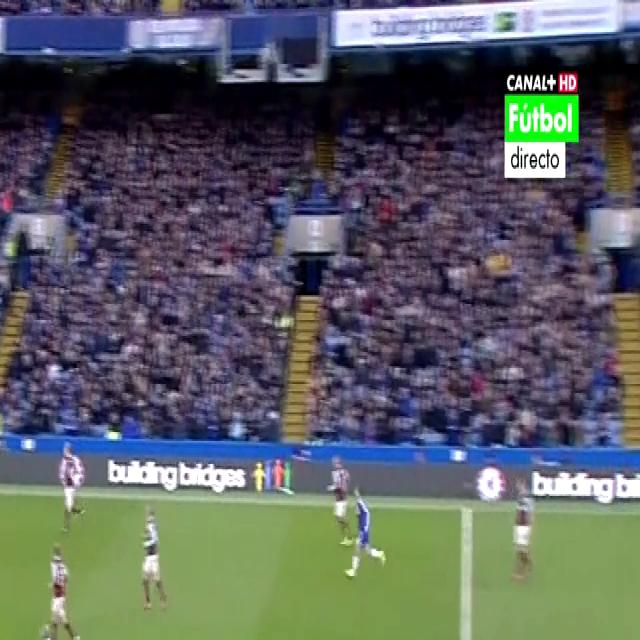referee: (29, 611, 71, 640)
soccer-player: (334, 476, 394, 588), (499, 464, 546, 596), (132, 489, 176, 618), (41, 535, 81, 640), (52, 429, 85, 536), (322, 446, 356, 542)
